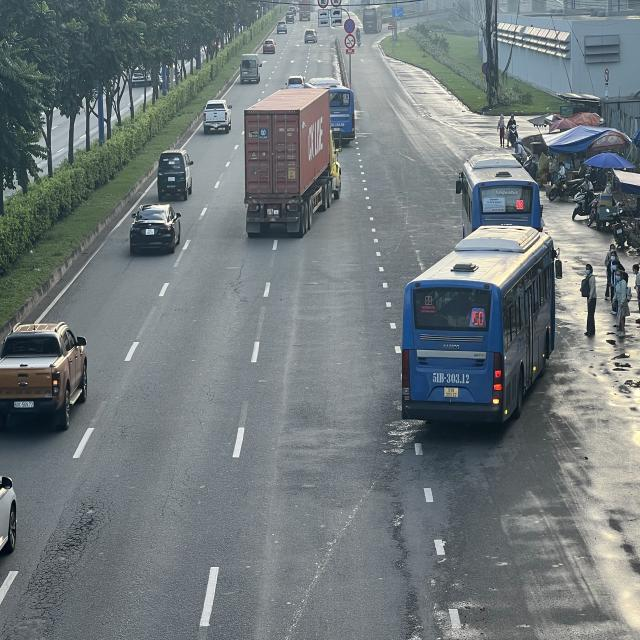car: (0, 322, 87, 432), (128, 203, 182, 255), (202, 101, 232, 137)
coach: (400, 222, 556, 426), (454, 154, 540, 232)
container: (244, 86, 339, 237)
van: (156, 152, 196, 204), (240, 53, 263, 85)
